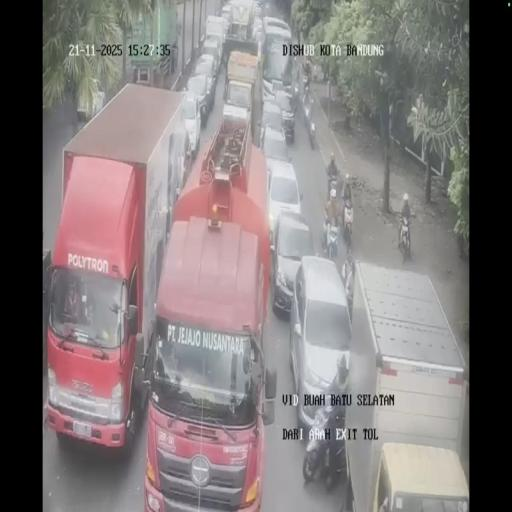3: (47, 83, 192, 455), (337, 262, 467, 512)
car: (270, 208, 314, 316), (264, 87, 295, 145), (262, 16, 292, 52), (199, 38, 222, 80), (251, 14, 265, 46), (220, 4, 232, 28)
truck: (302, 409, 334, 483), (322, 214, 340, 260), (397, 214, 412, 264), (344, 273, 354, 323), (326, 170, 340, 200), (302, 67, 311, 94)
